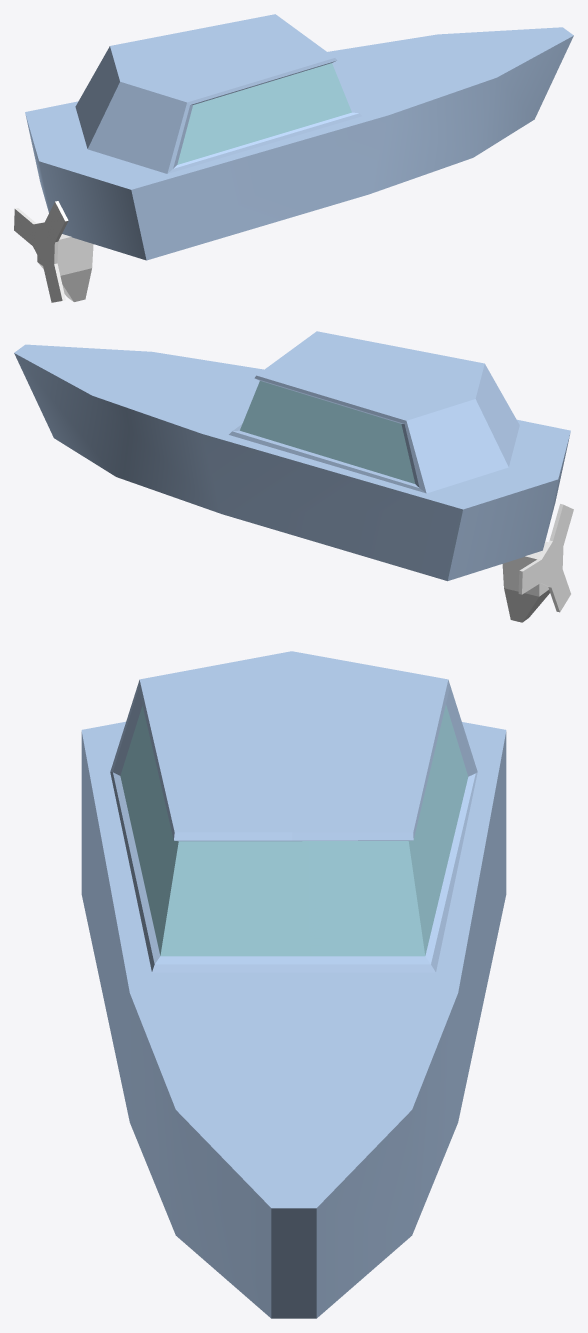
Rendered from speedboat.obj.
3 views of the same model, one above another, from view 1: azimuth 30°, elevation 25°; view 2: azimuth 150°, elevation 25°; view 3: azimuth 270°, elevation 25° (orthographic). The views are drawn at different scales.
Parts seen in each view (by area): view 1: pCube2; view 2: pCube2; view 3: pCube2.
Part boxes in pixels (<box>): pCube2: <box>14,14,573,302</box>; pCube2: <box>14,331,573,622</box>; pCube2: <box>81,651,506,1318</box>.
Bounding box in the file's own units: 27.47 × 10.21 × 9.54.
